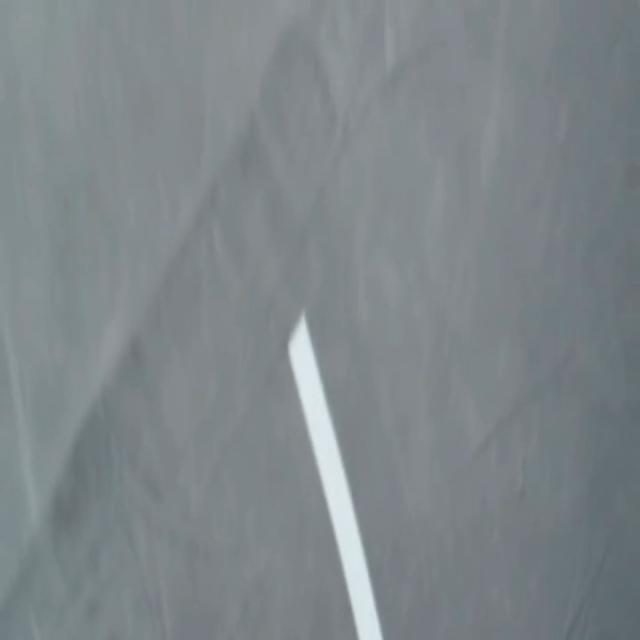center: (289, 311, 382, 639)
